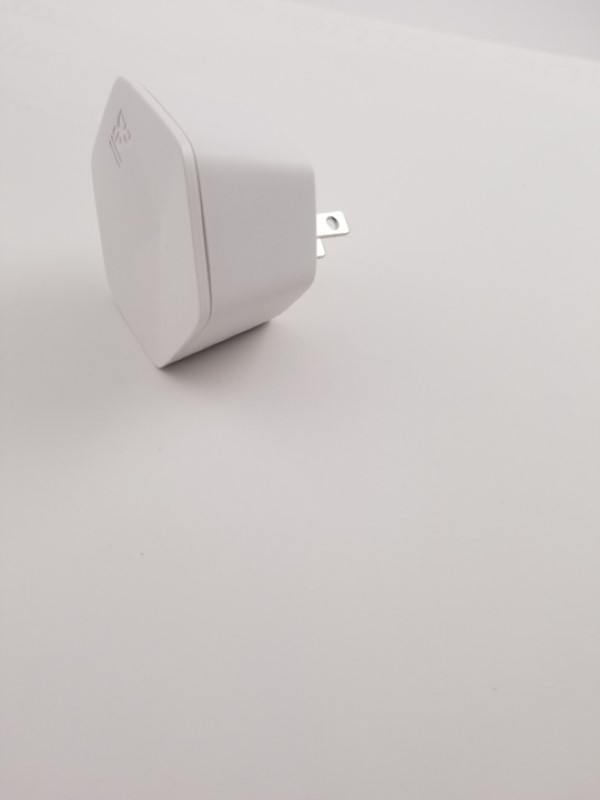pod: (86, 66, 370, 376)
